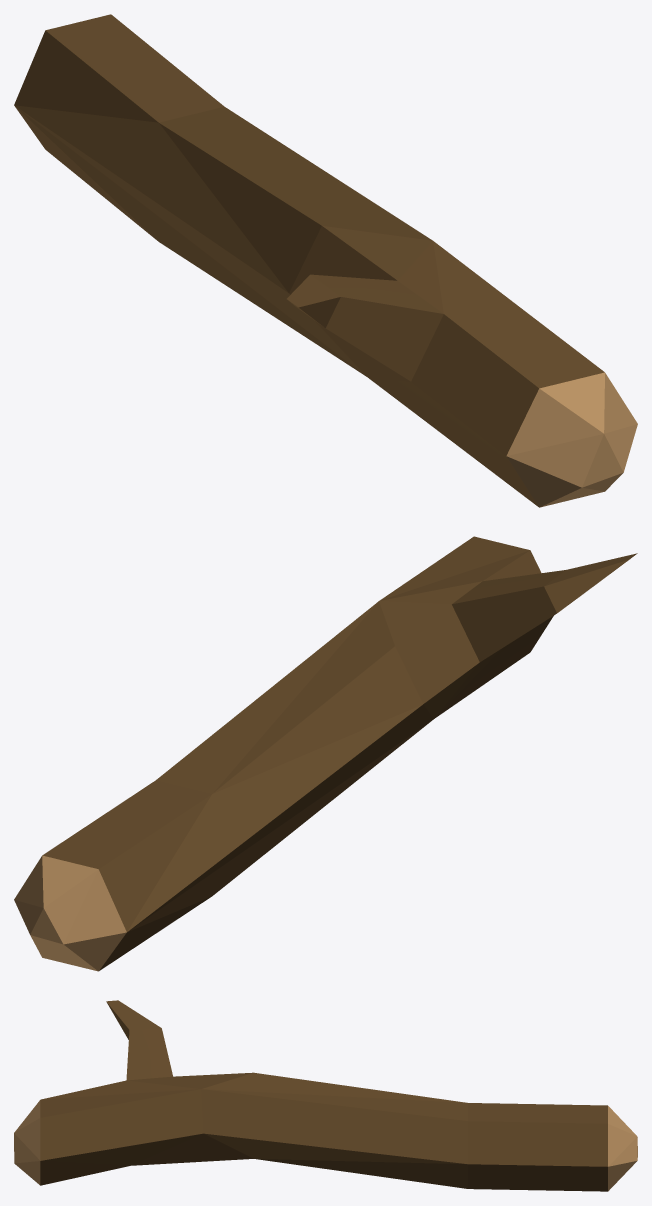
File: Branch_01.fbx
3 renders of one model, top to bottom at view 1: azimuth 30°, elevation 25°; view 2: azimuth 150°, elevation 25°; view 3: azimuth 270°, elevation 25°, orthographic. The views are drawn at different scales.
Parts seen in each view (by area): view 1: Branch_01; view 2: Branch_01; view 3: Branch_01.
Part boxes in pixels (left/top/right/bottom): Branch_01: left=14, top=14, right=637, bottom=507; Branch_01: left=14, top=536, right=637, bottom=971; Branch_01: left=14, top=1000, right=637, bottom=1191.
Bounding box in the file's own units: 32.66 × 22.97 × 108.
